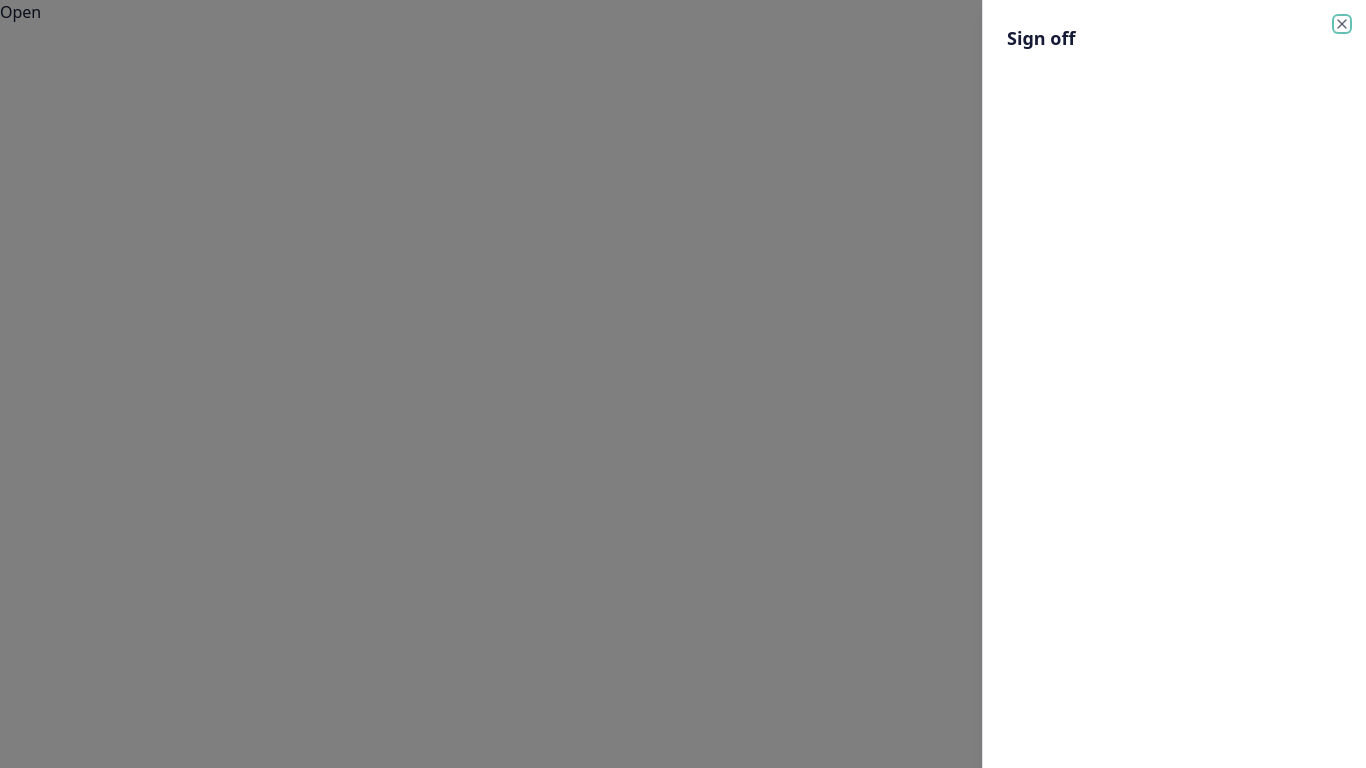
FR-23: Escape-with-unsaved-changes guard › Sheet (SignOffPanel's real primitive) guards Escape the same way when rationale text is uncommitted
Press Escape
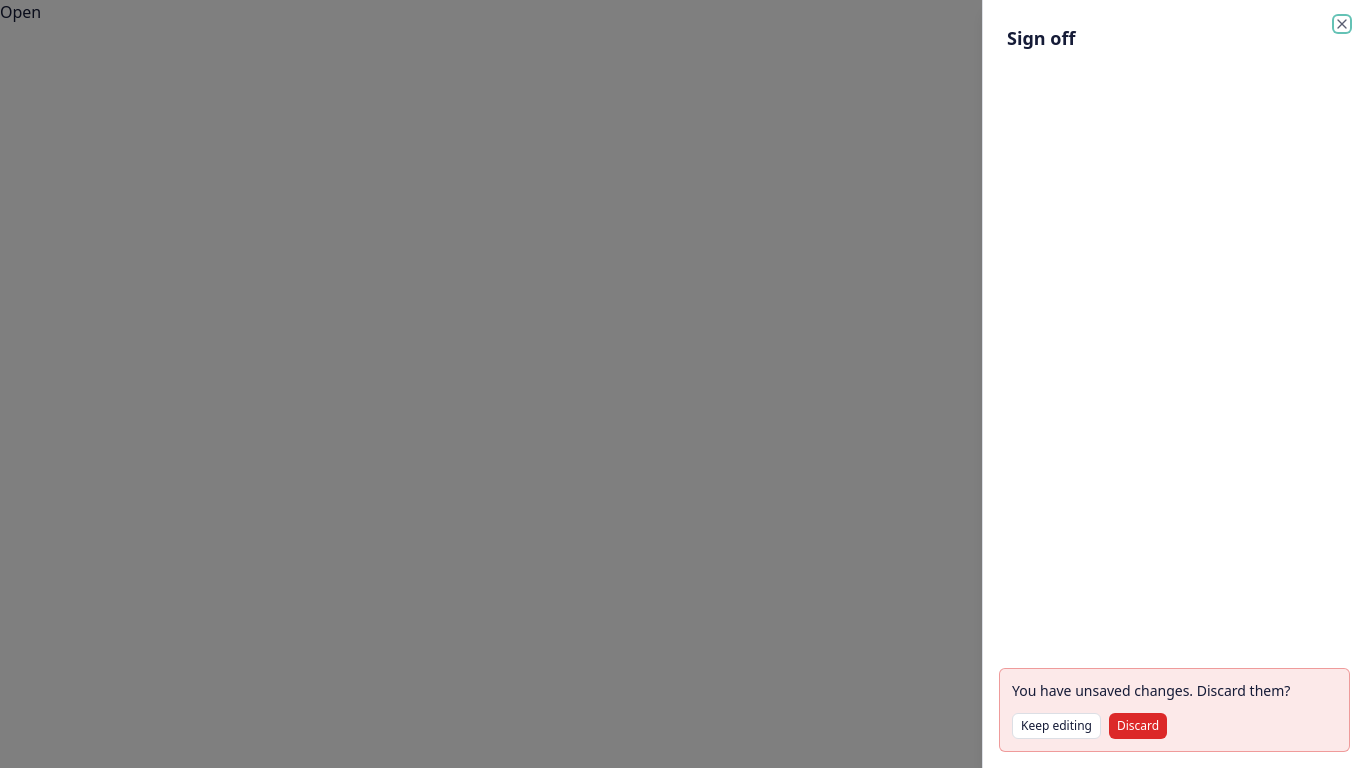
Expected: the heading "Sign off" is shown, [1007,26,1075,50]
Expected: the dialog named "Discard unsaved changes?" is shown, [999,668,1350,752]
Click the button "Discard" at (1138,726), box [1109,713,1167,739]
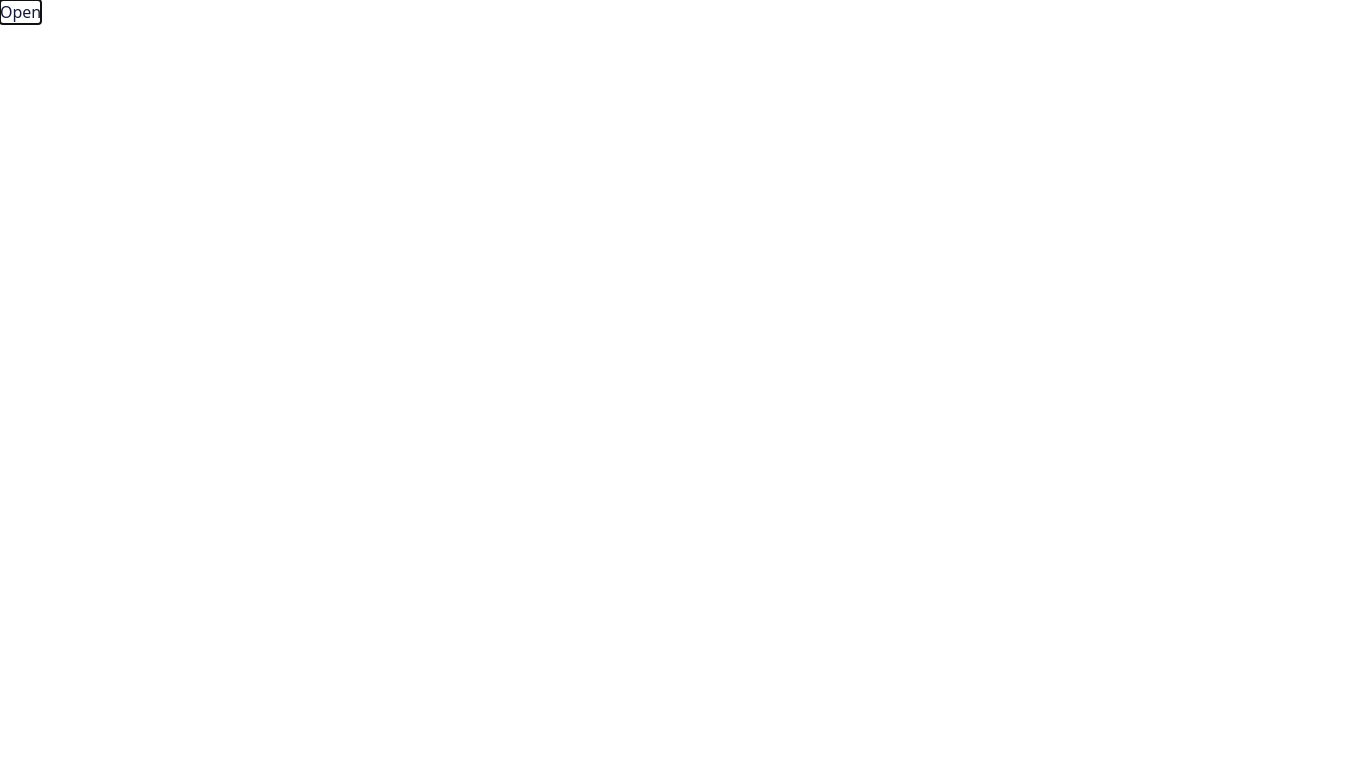
Expected: the heading "Sign off" is gone
